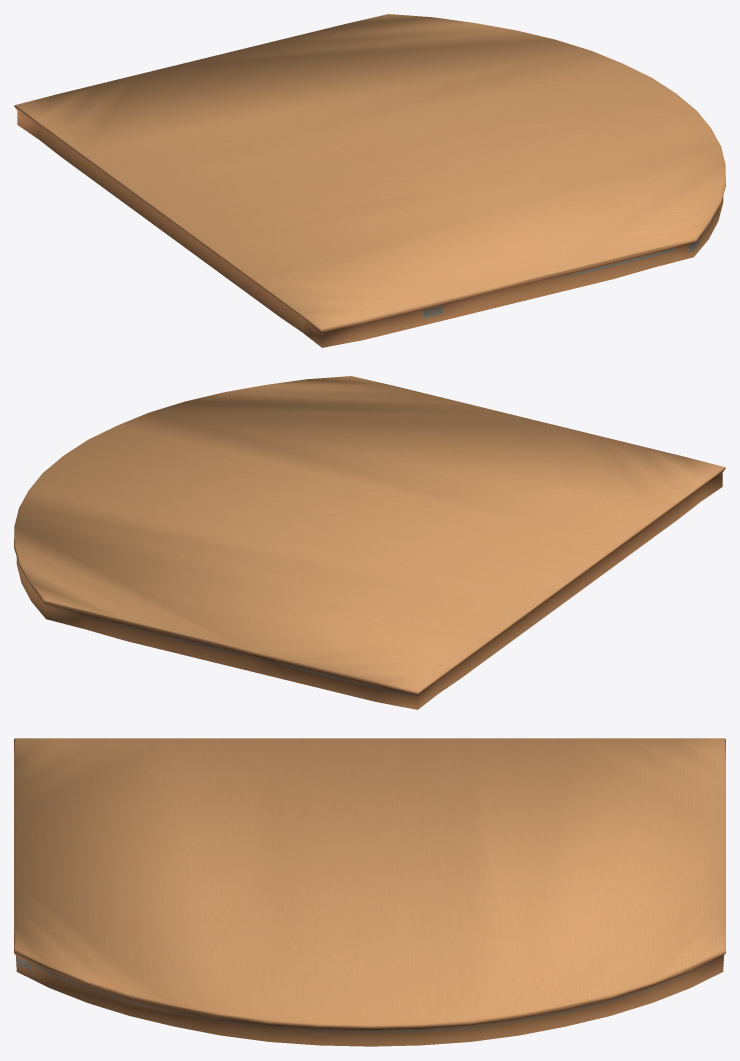
File: curved wooden stage 3d model.glb
The picture shows the model from 3 angles, top to bottom: view 1: azimuth 30°, elevation 25°; view 2: azimuth 150°, elevation 25°; view 3: azimuth 270°, elevation 25°; orthographic projection. The views are drawn at different scales.
Visible parts, largest first — view 1: world; view 2: world; view 3: world.
Part boxes in pixels (left/top/right/bottom): world: left=14, top=14, right=725, bottom=347; world: left=14, top=376, right=725, bottom=709; world: left=14, top=738, right=725, bottom=1046.
Bounding box in the file's own units: 0.9551 × 0.0371 × 0.998.
1 material, 1 textured.
